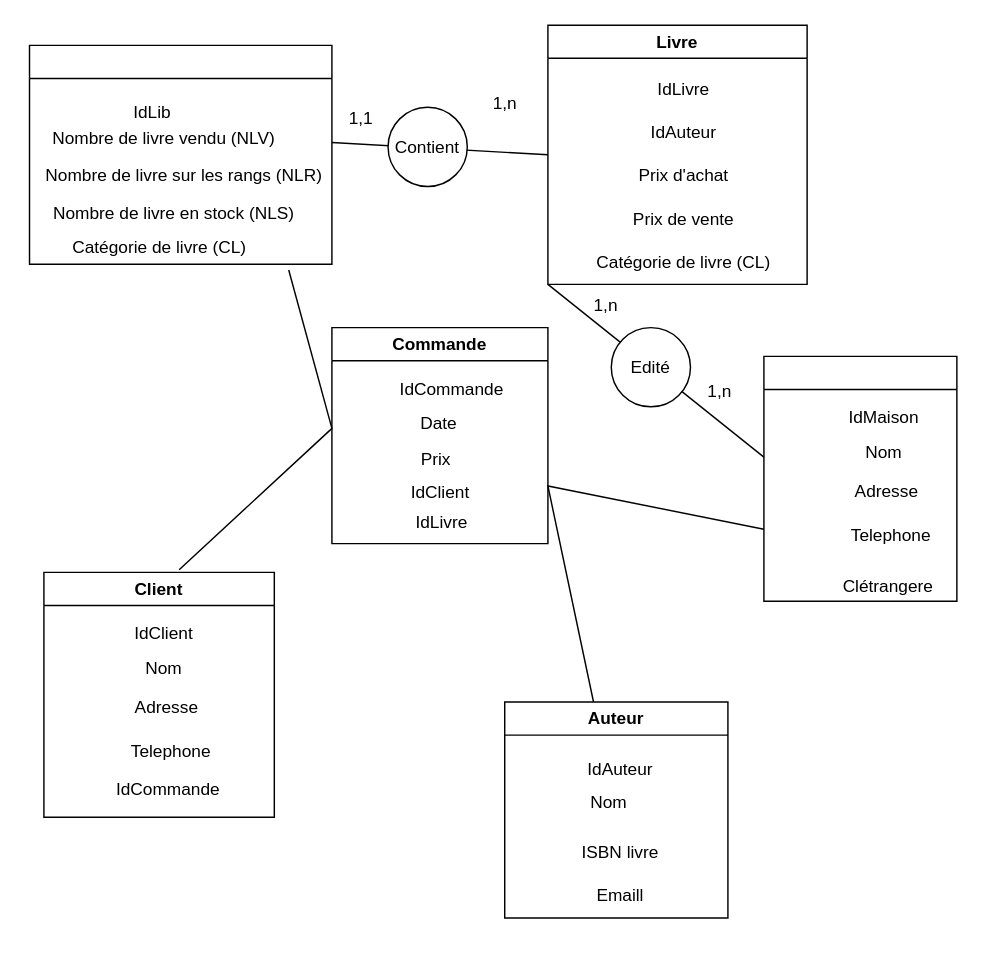
Some shapes in this 982 by 958 pixel diagram are drawn without their labels. Each missing label, with the box of its shape:
Librairie: (28, 44, 332, 264)
Maisons d'Edition: (762, 355, 957, 601)
